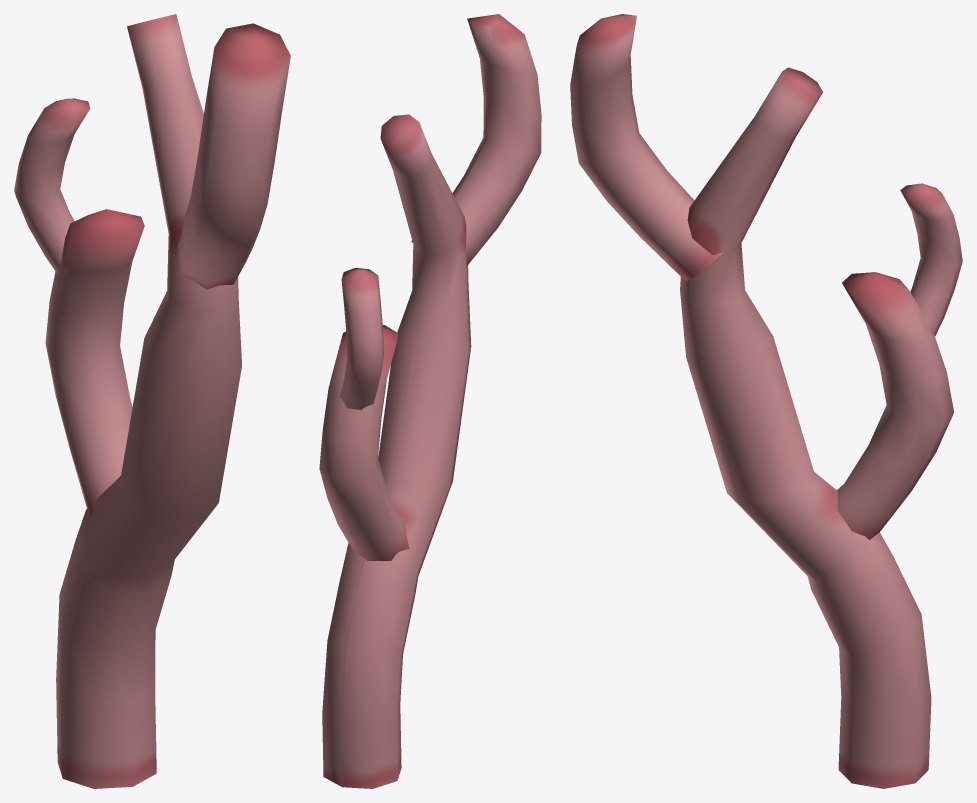
Rendered from AssetsCoral4.fbx.
The picture shows the model from 3 angles, left to right: view 1: azimuth 30°, elevation 25°; view 2: azimuth 150°, elevation 25°; view 3: azimuth 270°, elevation 25°; orthographic projection. The views are drawn at different scales.
Parts seen in each view (by area): view 1: Cylinder.004; view 2: Cylinder.004; view 3: Cylinder.004.
Boxes of the visible parts, left/top/right/bottom form: Cylinder.004: left=14, top=14, right=290, bottom=788; Cylinder.004: left=319, top=14, right=541, bottom=788; Cylinder.004: left=570, top=14, right=962, bottom=788.
Bounding box in the file's own units: 33.24 × 244 × 116.
